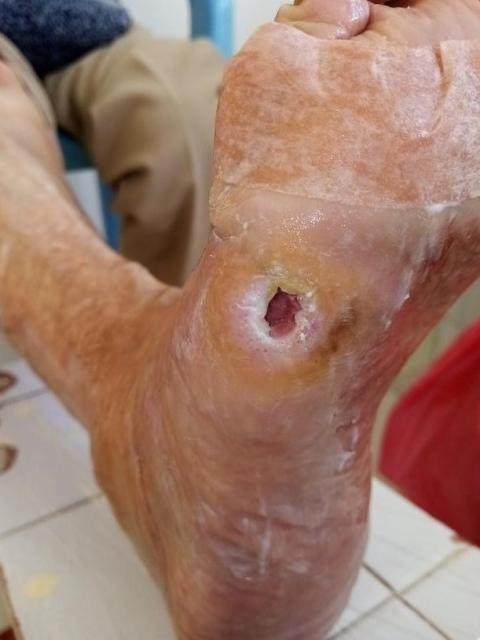wound: (333, 221, 480, 520), (254, 281, 313, 344)
